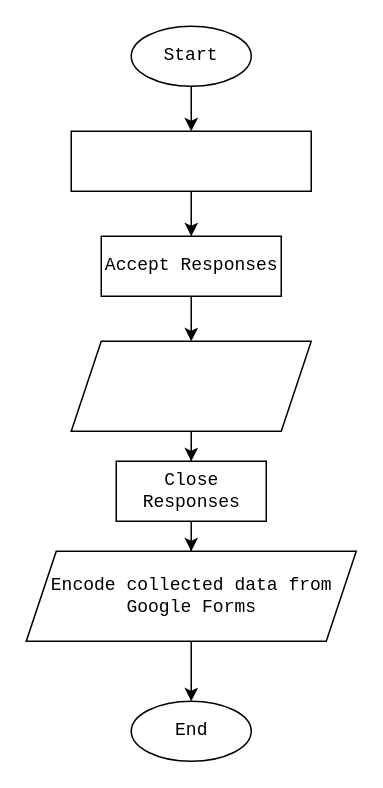
This 383x788 diagram has some shape labels left out. The shapes that lost their labels are listed below. From the top down, each one's box as (x1, y1, x2, y2) in pixels, then its label:
(70, 130, 311, 191): Distribute Google Forms Link
(70, 340, 311, 431): Input collected tourist data
